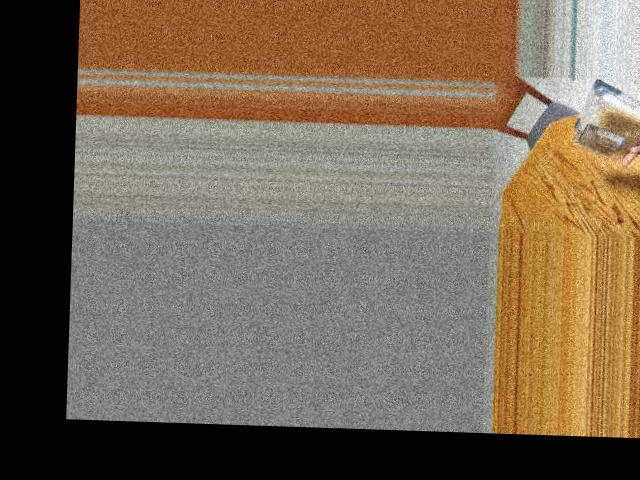cheese: (572, 91, 640, 152)
